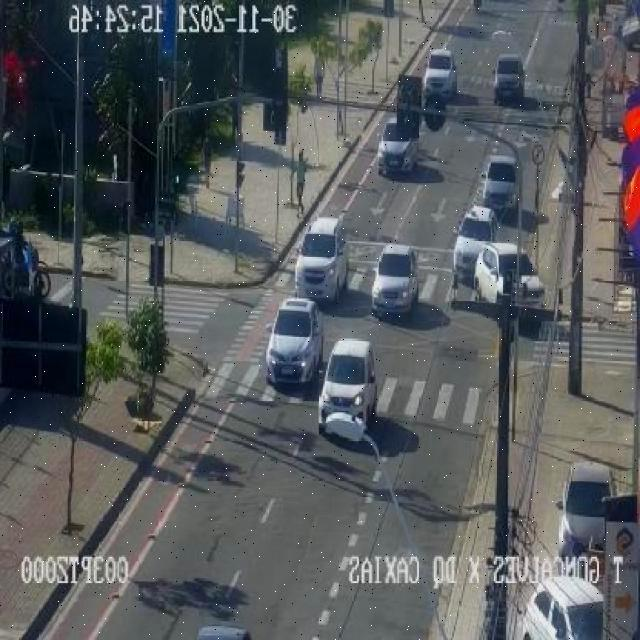Car: (317, 336, 378, 432), (518, 576, 604, 640), (559, 463, 614, 559), (265, 298, 324, 386), (474, 243, 544, 310), (295, 216, 349, 302), (370, 242, 419, 316), (452, 208, 500, 278), (377, 121, 419, 176), (479, 156, 518, 212), (422, 48, 458, 102), (492, 53, 526, 104), (195, 624, 251, 640)
Cycle: (0, 246, 50, 300)
